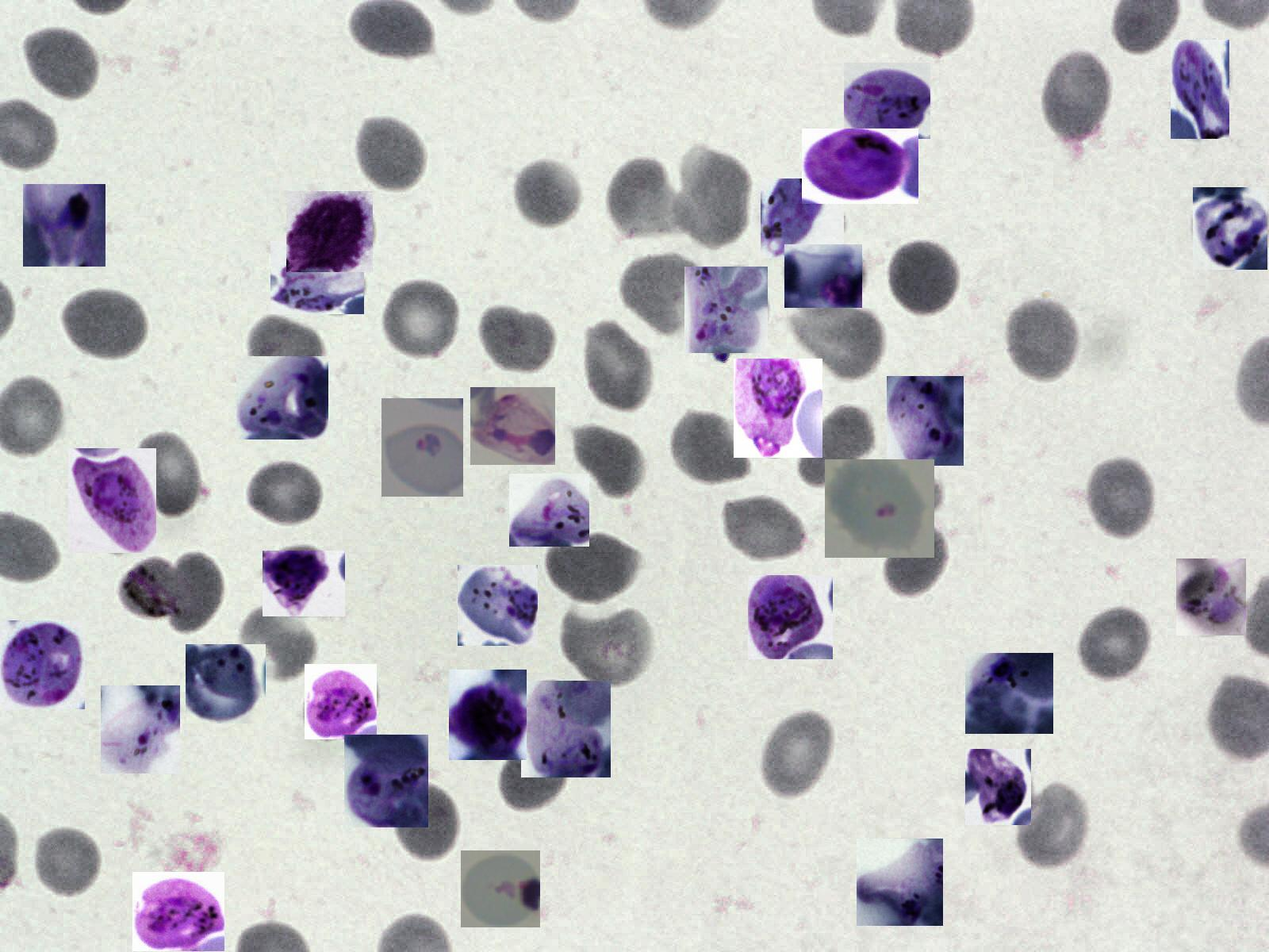Infected: (825, 459, 934, 558), (68, 449, 156, 554), (734, 359, 822, 458), (802, 129, 918, 204), (521, 681, 611, 777), (381, 398, 463, 497), (236, 356, 328, 440), (344, 735, 428, 827), (0, 620, 85, 709), (857, 839, 943, 926), (132, 872, 224, 951), (685, 267, 769, 353), (748, 575, 833, 659), (965, 653, 1053, 734), (286, 191, 373, 272), (101, 685, 180, 774), (449, 670, 527, 760), (887, 376, 964, 466), (270, 241, 364, 314), (23, 184, 105, 267), (761, 178, 844, 258), (470, 387, 555, 465), (844, 63, 930, 139), (458, 565, 538, 646), (186, 644, 266, 724), (1193, 187, 1267, 270), (461, 850, 540, 927), (509, 474, 589, 547), (1171, 40, 1229, 139), (305, 664, 377, 739), (263, 551, 345, 616), (1176, 559, 1246, 635), (784, 244, 862, 308), (965, 750, 1031, 825), (120, 555, 192, 620)
Uninfected: (669, 144, 754, 248), (617, 248, 709, 336), (789, 300, 885, 382), (562, 607, 659, 686), (1001, 292, 1087, 380), (666, 408, 757, 491), (601, 156, 686, 244), (1038, 48, 1115, 145), (544, 528, 640, 605), (580, 317, 657, 413), (379, 277, 463, 364), (758, 709, 838, 800), (59, 283, 150, 362), (129, 429, 207, 520), (719, 491, 809, 566), (248, 309, 327, 394), (1073, 452, 1150, 538), (1020, 788, 1094, 876), (21, 25, 101, 104), (1075, 604, 1153, 685), (496, 736, 573, 818), (798, 406, 874, 489), (239, 601, 316, 681), (353, 114, 429, 195), (886, 238, 962, 318), (28, 824, 104, 903), (245, 456, 324, 531), (475, 305, 554, 379), (573, 429, 654, 501), (512, 157, 587, 233), (880, 520, 954, 595), (391, 778, 459, 859), (350, 0, 435, 60), (171, 555, 223, 631)
